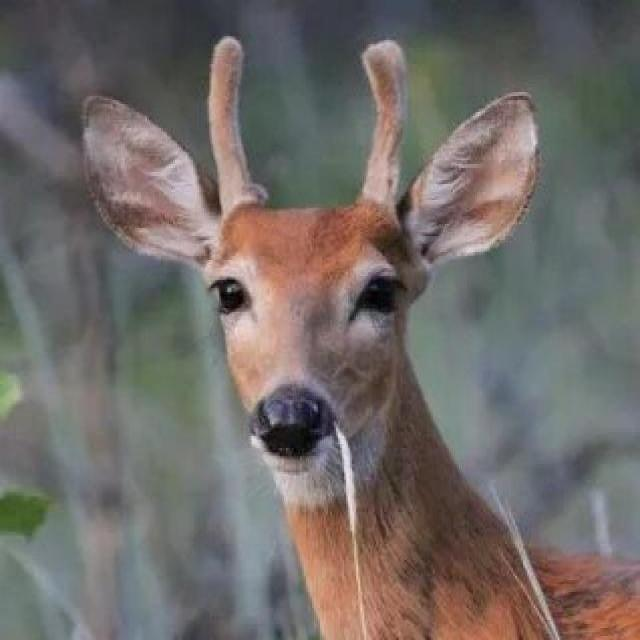deer: (113, 122, 592, 640)
